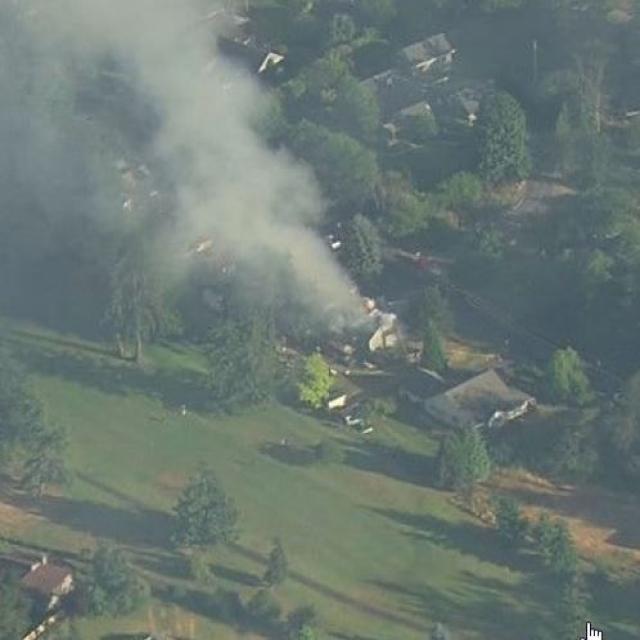Smoke: (0, 0, 361, 335)
